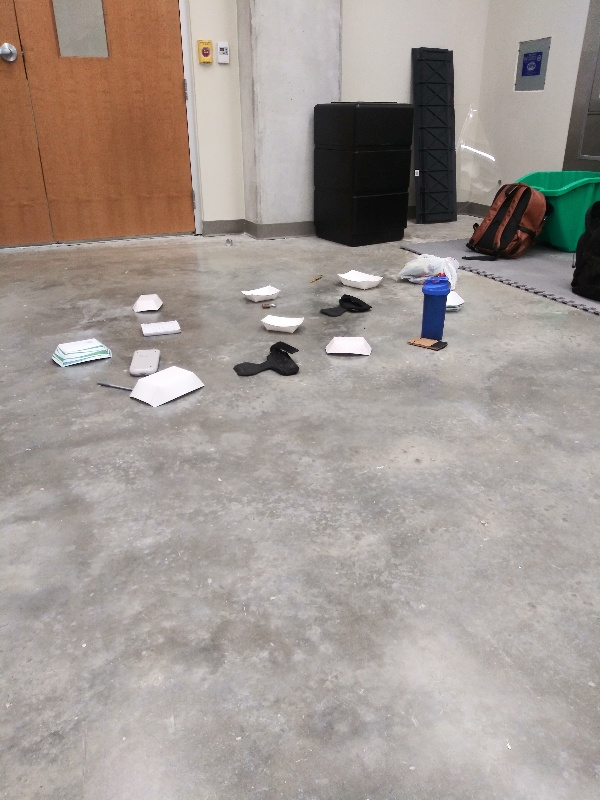plate: (124, 363, 206, 408), (48, 336, 117, 370), (330, 268, 388, 292), (257, 308, 308, 334), (322, 334, 373, 359), (129, 288, 168, 318), (237, 281, 286, 304), (444, 283, 466, 316)
